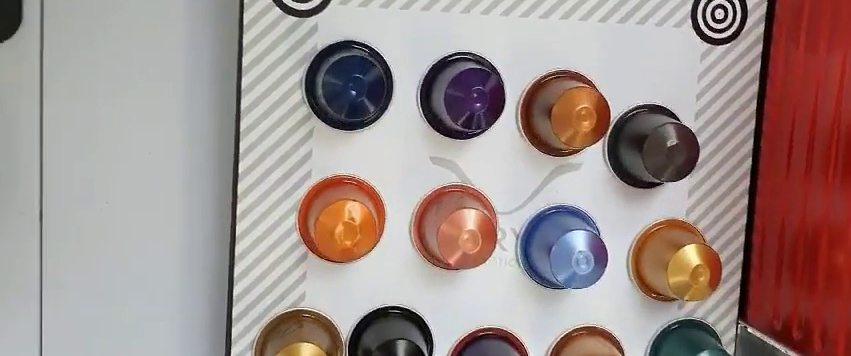capsule_1: (300, 40, 392, 133)
capsule_10: (346, 306, 434, 356)
capsule_11: (444, 323, 529, 356)
capsule_12: (538, 321, 624, 356)
capsule_13: (638, 314, 729, 356)
capsule_2: (416, 52, 507, 140)
capsule_3: (518, 72, 610, 159)
capsule_4: (603, 104, 700, 188)
capsule_5: (292, 173, 387, 263)
capsule_6: (411, 182, 498, 269)
capsule_7: (514, 204, 607, 291)
capsule_8: (631, 216, 723, 307)
capsule_9: (252, 311, 342, 356)
